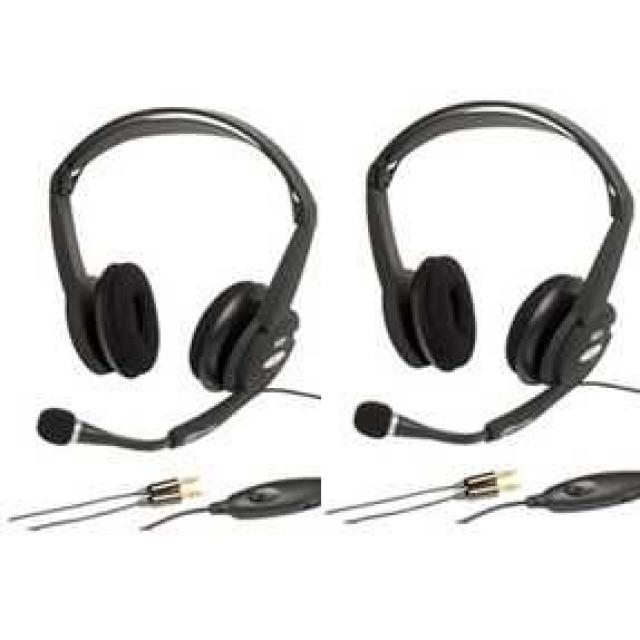microphone: (34, 407, 165, 451), (351, 401, 471, 443)
